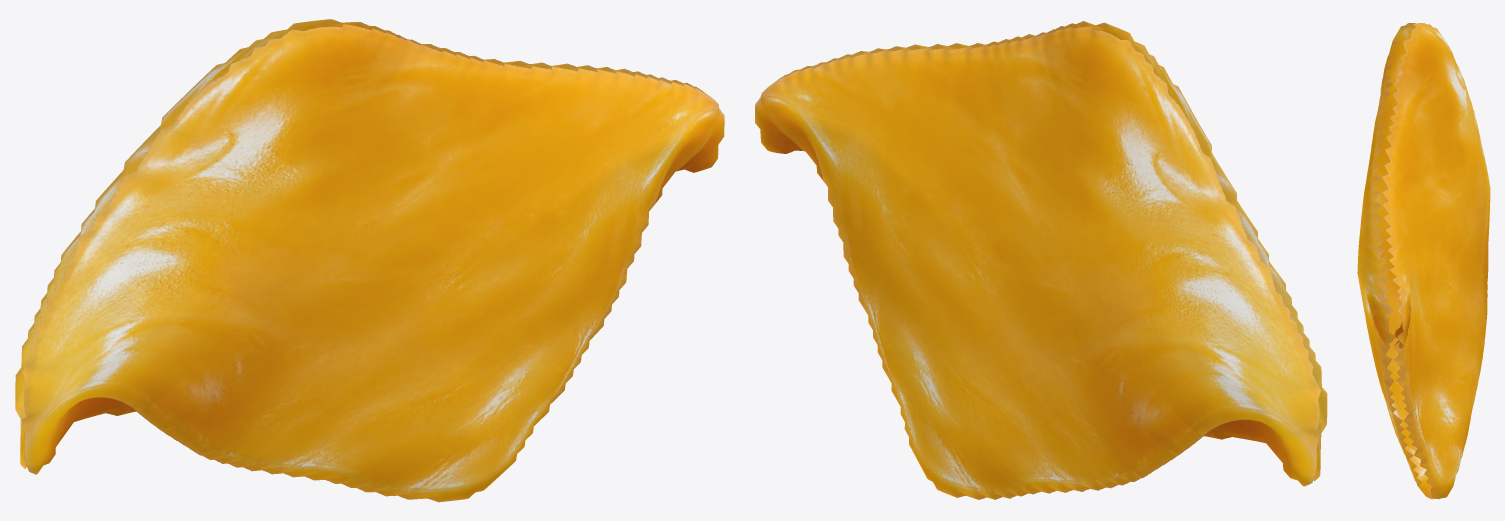
Rendered from queso-americano.glb.
The picture shows the model from 3 angles, left to right: view 1: azimuth 30°, elevation 25°; view 2: azimuth 150°, elevation 25°; view 3: azimuth 270°, elevation 25°; orthographic projection. The views are drawn at different scales.
Visible parts, largest first — view 1: queso-americano; view 2: queso-americano; view 3: queso-americano.
Part boxes in pixels (left/top/right/bottom): queso-americano: left=15, top=19, right=724, bottom=502; queso-americano: left=755, top=21, right=1327, bottom=499; queso-americano: left=1357, top=23, right=1490, bottom=499.
Size of the model in its own units: 1.98 by 1.52 by 0.444.
1 material, 1 textured.
